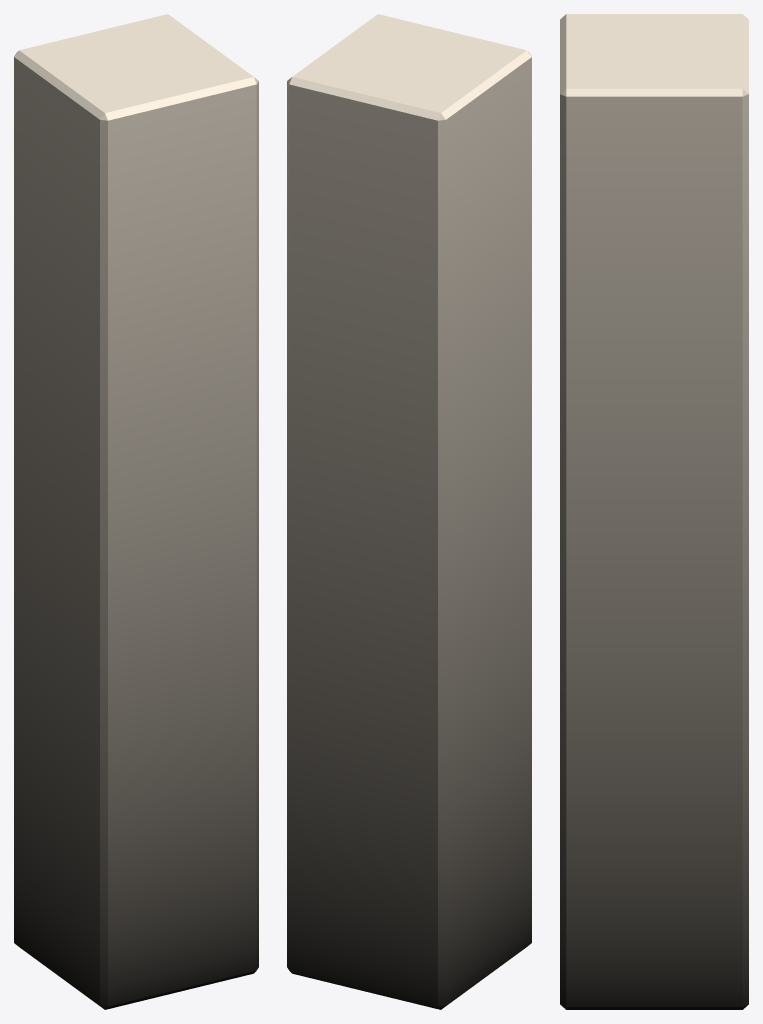
Rendered from SM_VKI_Post_Timber_Corner_Full.fbx.
3 views of the same model, side by side, from view 1: azimuth 30°, elevation 25°; view 2: azimuth 150°, elevation 25°; view 3: azimuth 270°, elevation 25° (orthographic). The views are drawn at different scales.
Visible parts, largest first — view 1: SM_VKI_Post_Timber_Corner_Full.001; view 2: SM_VKI_Post_Timber_Corner_Full.001; view 3: SM_VKI_Post_Timber_Corner_Full.001.
Part boxes in pixels (x1,y1,x2,y2): SM_VKI_Post_Timber_Corner_Full.001: (14, 14, 258, 1009); SM_VKI_Post_Timber_Corner_Full.001: (287, 14, 531, 1009); SM_VKI_Post_Timber_Corner_Full.001: (560, 14, 748, 1009).
Bounding box in the file's own units: 0.62 × 3.34 × 0.62.
